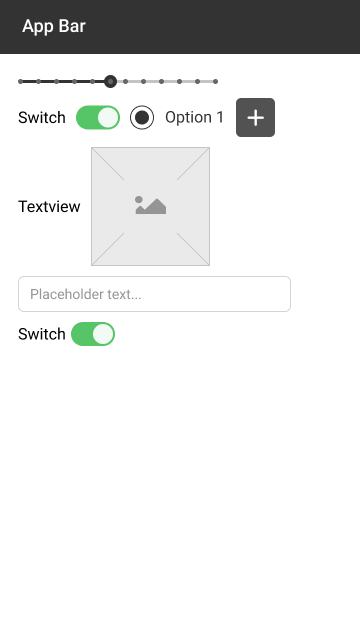buttonIcon: (235, 96, 276, 139)
editText: (16, 274, 293, 313)
imageView: (89, 145, 211, 268)
radioButton: (130, 104, 224, 132)
slider: (14, 75, 220, 88)
switch: (13, 105, 122, 131), (14, 321, 117, 348)
textView: (17, 199, 81, 217)
toolbar: (1, 1, 360, 54)
